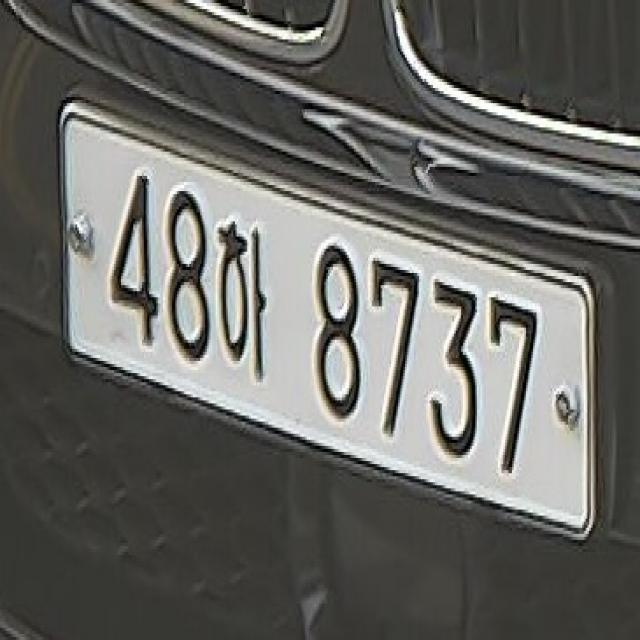3: (428, 272, 481, 464)
4: (102, 151, 162, 359)
7: (482, 286, 540, 478), (368, 246, 422, 444)
8: (307, 237, 368, 419), (164, 182, 214, 373)
ha: (217, 217, 270, 396)
license_plate: (53, 81, 611, 577)
